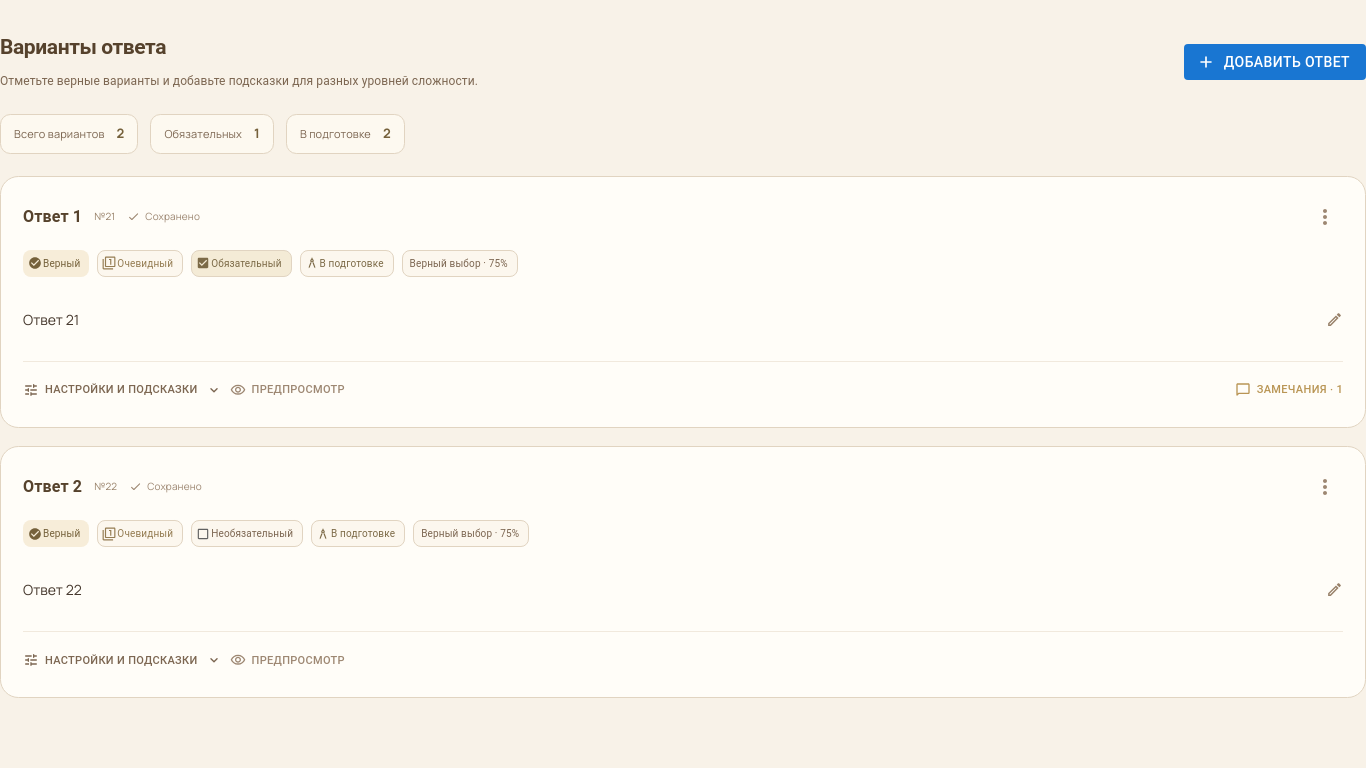
deletion errors keep the answer visible; successful retry updates the list and counters
Click the button named "Действия с ответом №21" at (1325, 217), box [1307,199,1343,235]
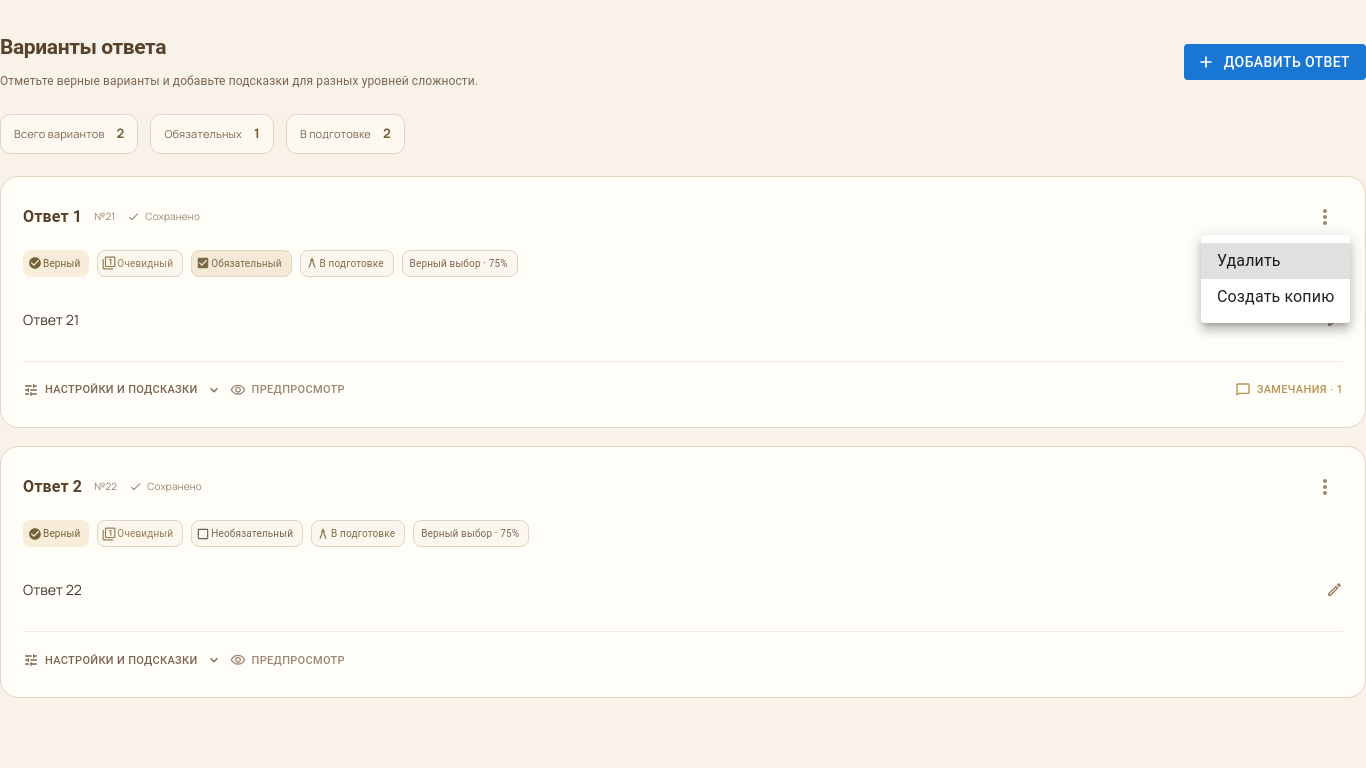
Click the menu item "Удалить" at (1276, 261), box [1201,243,1350,279]
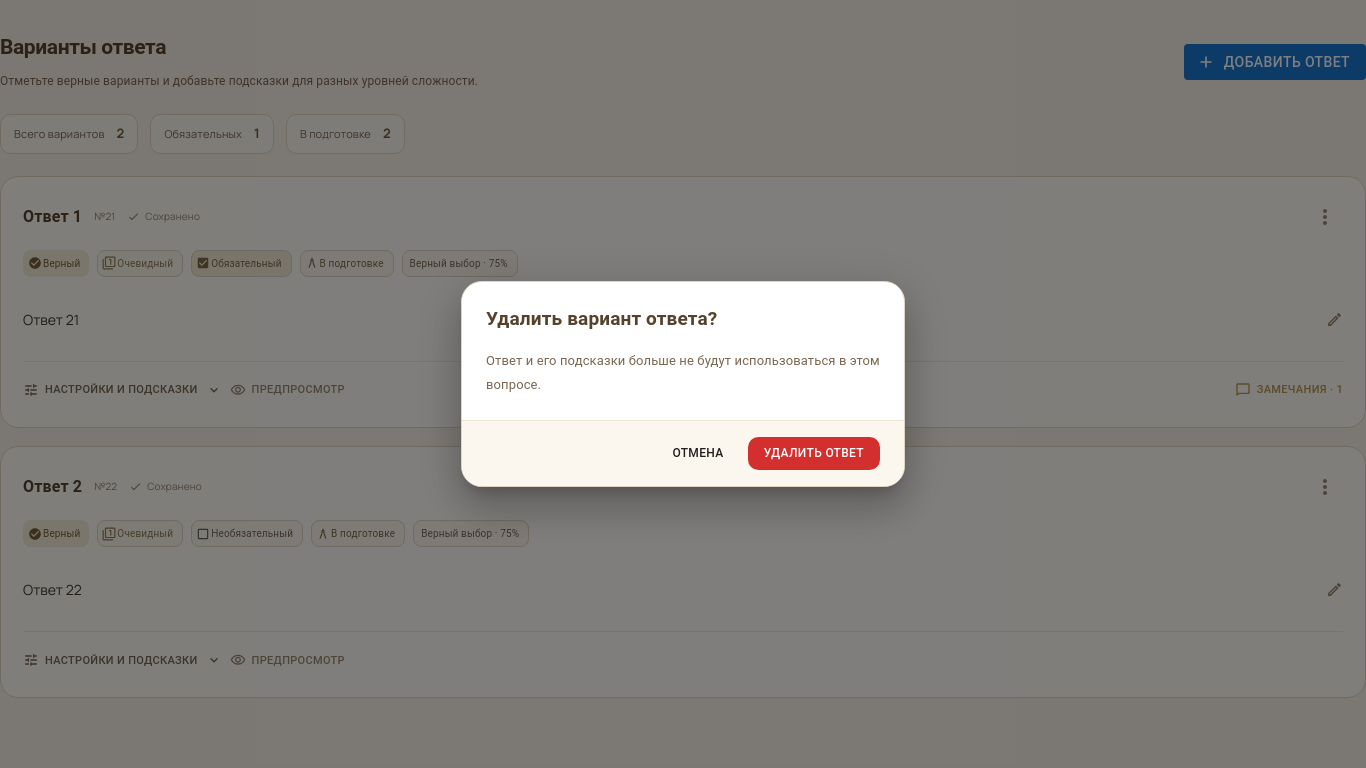
Click the button "Удалить ответ" at (814, 453), box [748,437,880,470]
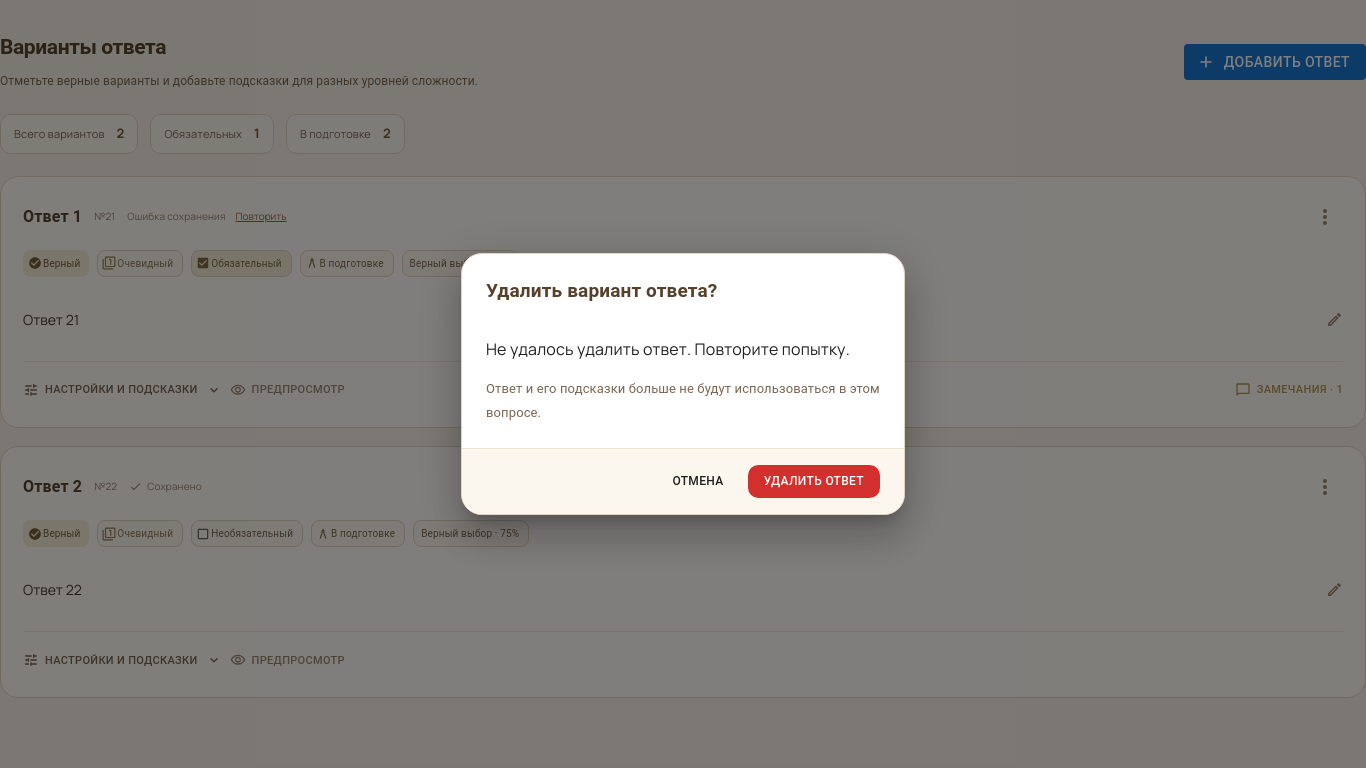
Expected: the text "Не удалось удалить ответ" is shown, [486,338,850,360]
Click the button "Удалить ответ" at (814, 481), box [748,465,880,498]
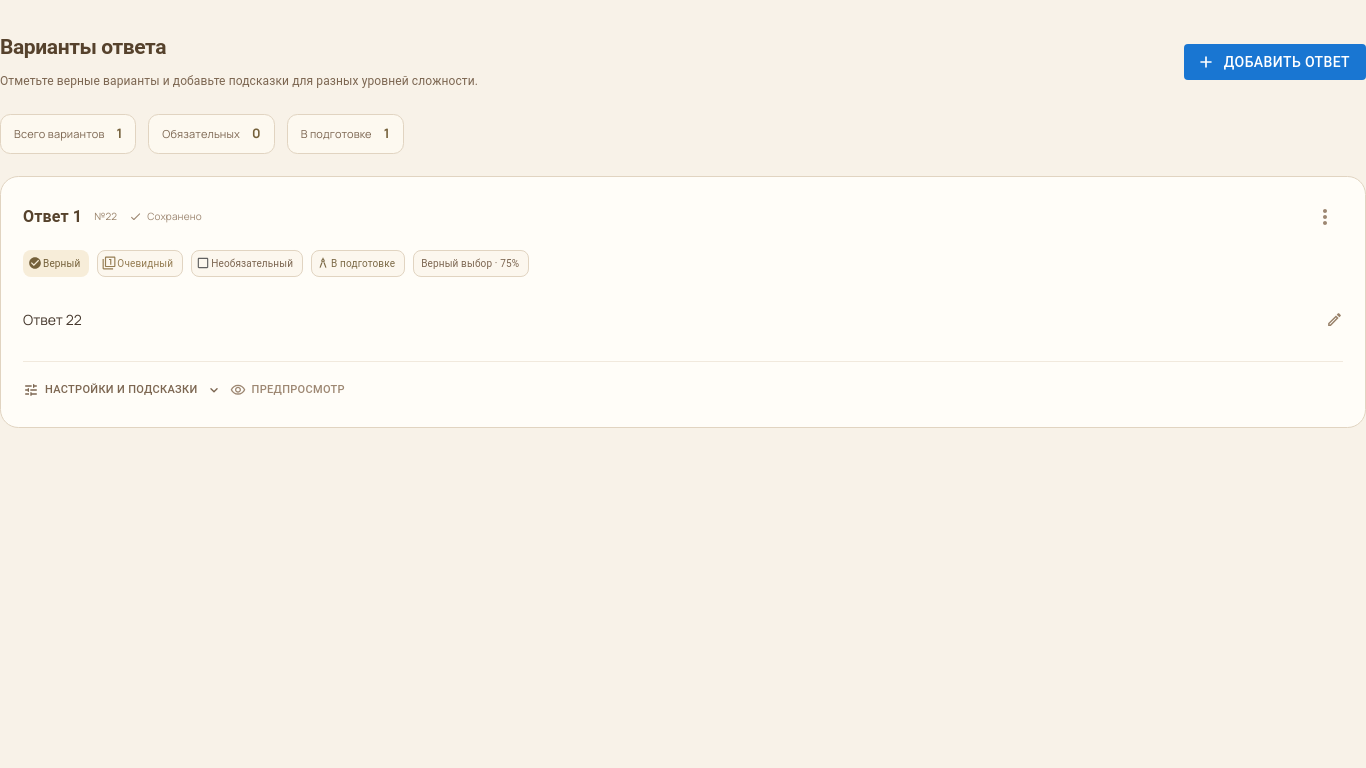
Expected: the text "1" next to "Всего вариантов" is shown, [116,124,122,142]
